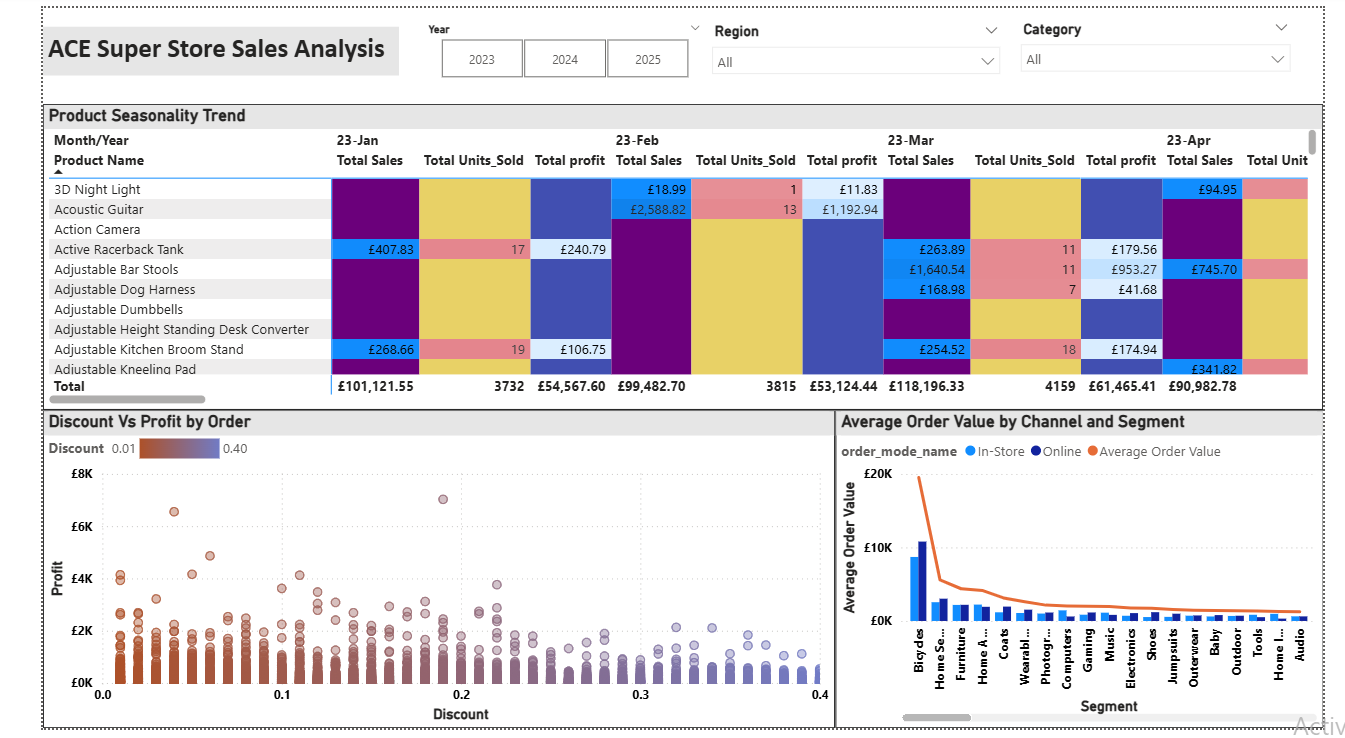

Layout of this report page (visuals, bound fields, positions):
{"tool":"powerbi","page":{"name":"Page 1","canvas":[1280,720],"ordinal":0},"visuals":[{"type":"textbox","box":[0,18.8,356.4,49.1],"z":0},{"type":"slicer","fields":{"Values":["Date.year"]},"box":[372.2,10.1,297.2,66.4],"z":1000},{"type":"slicer","fields":{"Values":["location.region"]},"box":[659.3,10.1,308.8,66.4],"z":2000},{"type":"slicer","fields":{"Values":["category.category_name"]},"box":[968.1,7.2,290,72.1],"z":3000},{"type":"pivotTable","title":"Product Seasonality Trend ","fields":{"Values":["Sum(product_seasonality.total_sales)","Sum(product_seasonality.Units_Sold)","Sum(product_seasonality.profit)"],"Rows":["product_seasonality.product_name"],"Columns":["product_seasonality.month_year"]},"box":[0,96.7,1279.7,305.9],"z":4000},{"type":"scatterChart","title":"Discount Vs Profit by Order","fields":{"X":["Sum(discount_impact_analysis.discount)"],"Y":["Sum(discount_impact_analysis.profit)"],"Category":["discount_impact_analysis.order_id"]},"box":[0,402.5,792.1,317.4],"z":4001},{"type":"lineClusteredColumnComboChart","title":"Average Order Value by Channel and Segment ","fields":{"Y":["Sum(channel_margin.average_order_value)"],"Y2":["Sum(channel_margin.average_order_value)"],"Category":["channel_margin.segment_name"],"Series":["channel_margin.order_mode_name"]},"box":[792.3,402.5,487.7,317.4],"z":4002}]}

Visuals, with their boxes in screenshot pixels (x1, y1, x2, y2), scaled from the page's 1280x720 canvas onto the 1345x738 screenshot:
textbox: box(0, 19, 374, 70)
slicer - Date.year: box(391, 10, 703, 78)
slicer - location.region: box(693, 10, 1017, 78)
slicer - category.category_name: box(1017, 7, 1322, 81)
"Product Seasonality Trend " pivotTable: box(0, 99, 1344, 413)
"Discount Vs Profit by Order" scatterChart: box(0, 413, 832, 737)
"Average Order Value by Channel and Segment " lineClusteredColumnComboChart: box(833, 413, 1344, 737)
